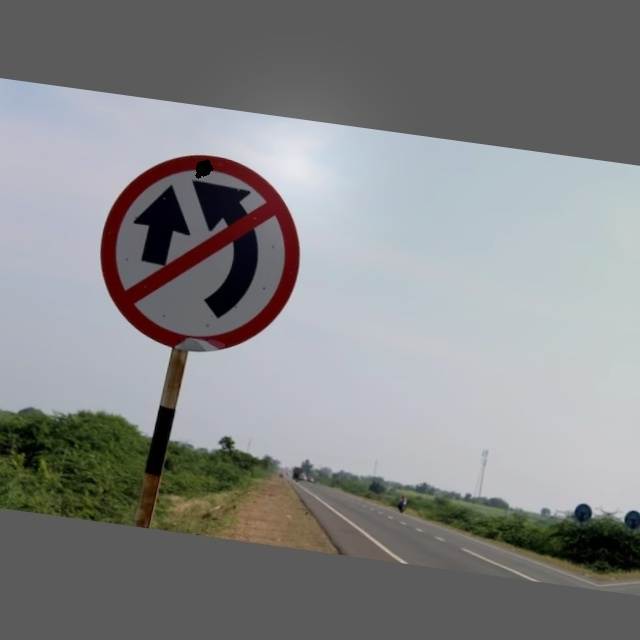Overtaking_Prohibited: (90, 142, 310, 366)
